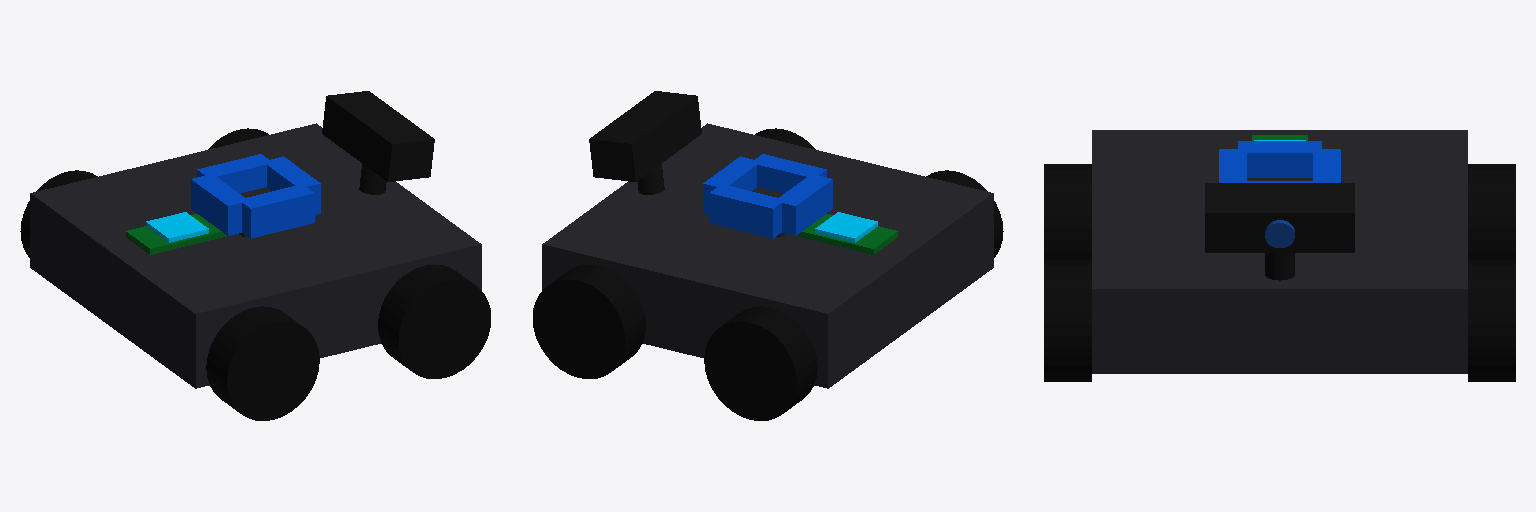
The robot description file, URDF, robot "autonomous_box_robot":
<?xml version="1.0"?>
<robot name="autonomous_box_robot">

  <!-- MATERIALS -->
  <material name="chassis_color">
    <color rgba="0.18 0.18 0.20 1.0"/>
  </material>
  <material name="wheel_rubber">
    <color rgba="0.08 0.08 0.08 1.0"/>
  </material>
  <material name="wheel_rim">
    <color rgba="0.9 0.4 0.0 1.0"/>
  </material>
  <material name="sensor_blue">
    <color rgba="0.05 0.35 0.85 1.0"/>
  </material>
  <material name="sensor_barrel">
    <color rgba="0.85 0.85 0.85 1.0"/>
  </material>
  <material name="webcam_black">
    <color rgba="0.1 0.1 0.1 1.0"/>
  </material>
  <material name="webcam_lens">
    <color rgba="0.1 0.3 0.6 1.0"/>
  </material>
  <material name="oled_screen">
    <color rgba="0.0 0.8 1.0 1.0"/>
  </material>
  <material name="pcb_green">
    <color rgba="0.05 0.45 0.15 1.0"/>
  </material>

  <!-- BASE FOOTPRINT (Ground plane projection) -->
  <link name="base_footprint"/>

  <joint name="base_footprint_joint" type="fixed">
    <parent link="base_footprint"/>
    <child link="base_link"/>
    <origin xyz="0 0 0.045" rpy="0 0 0"/>
  </joint>

  <!-- CHASSIS BASE LINK (20cm x 20cm x 5cm box) -->
  <link name="base_link">
    <visual>
      <origin xyz="0 0 0" rpy="0 0 0"/>
      <geometry>
        <box size="0.20 0.20 0.05"/>
      </geometry>
      <material name="chassis_color"/>
    </visual>
    <collision>
      <origin xyz="0 0 0" rpy="0 0 0"/>
      <geometry>
        <box size="0.20 0.20 0.05"/>
      </geometry>
    </collision>
    <inertial>
      <origin xyz="0 0 0" rpy="0 0 0"/>
      <mass value="1.20"/>
      <inertia ixx="0.00425" ixy="0.0" ixz="0.0"
               iyy="0.00425" iyz="0.0"
               izz="0.00800"/>
    </inertial>
  </link>

  <!-- WHEEL MACRO-LIKE DEFINITIONS (4WD Skid Steer) -->
  <!-- FRONT LEFT WHEEL -->
  <link name="wheel_front_left_link">
    <visual>
      <origin xyz="0 0 0" rpy="1.570796 0 0"/>
      <geometry>
        <cylinder radius="0.0325" length="0.025"/>
      </geometry>
      <material name="wheel_rubber"/>
    </visual>
    <collision>
      <origin xyz="0 0 0" rpy="1.570796 0 0"/>
      <geometry>
        <cylinder radius="0.0325" length="0.025"/>
      </geometry>
    </collision>
    <inertial>
      <origin xyz="0 0 0" rpy="1.570796 0 0"/>
      <mass value="0.10"/>
      <inertia ixx="0.0000316" ixy="0.0" ixz="0.0"
               iyy="0.0000528" iyz="0.0"
               izz="0.0000316"/>
    </inertial>
  </link>
  <joint name="wheel_front_left_joint" type="continuous">
    <parent link="base_link"/>
    <child link="wheel_front_left_link"/>
    <origin xyz="0.060 0.1125 -0.0125" rpy="0 0 0"/>
    <axis xyz="0 1 0"/>
  </joint>

  <!-- FRONT RIGHT WHEEL -->
  <link name="wheel_front_right_link">
    <visual>
      <origin xyz="0 0 0" rpy="1.570796 0 0"/>
      <geometry>
        <cylinder radius="0.0325" length="0.025"/>
      </geometry>
      <material name="wheel_rubber"/>
    </visual>
    <collision>
      <origin xyz="0 0 0" rpy="1.570796 0 0"/>
      <geometry>
        <cylinder radius="0.0325" length="0.025"/>
      </geometry>
    </collision>
    <inertial>
      <origin xyz="0 0 0" rpy="1.570796 0 0"/>
      <mass value="0.10"/>
      <inertia ixx="0.0000316" ixy="0.0" ixz="0.0"
               iyy="0.0000528" iyz="0.0"
               izz="0.0000316"/>
    </inertial>
  </link>
  <joint name="wheel_front_right_joint" type="continuous">
    <parent link="base_link"/>
    <child link="wheel_front_right_link"/>
    <origin xyz="0.060 -0.1125 -0.0125" rpy="0 0 0"/>
    <axis xyz="0 1 0"/>
  </joint>

  <!-- REAR LEFT WHEEL -->
  <link name="wheel_rear_left_link">
    <visual>
      <origin xyz="0 0 0" rpy="1.570796 0 0"/>
      <geometry>
        <cylinder radius="0.0325" length="0.025"/>
      </geometry>
      <material name="wheel_rubber"/>
    </visual>
    <collision>
      <origin xyz="0 0 0" rpy="1.570796 0 0"/>
      <geometry>
        <cylinder radius="0.0325" length="0.025"/>
      </geometry>
    </collision>
    <inertial>
      <origin xyz="0 0 0" rpy="1.570796 0 0"/>
      <mass value="0.10"/>
      <inertia ixx="0.0000316" ixy="0.0" ixz="0.0"
               iyy="0.0000528" iyz="0.0"
               izz="0.0000316"/>
    </inertial>
  </link>
  <joint name="wheel_rear_left_joint" type="continuous">
    <parent link="base_link"/>
    <child link="wheel_rear_left_link"/>
    <origin xyz="-0.060 0.1125 -0.0125" rpy="0 0 0"/>
    <axis xyz="0 1 0"/>
  </joint>

  <!-- REAR RIGHT WHEEL -->
  <link name="wheel_rear_right_link">
    <visual>
      <origin xyz="0 0 0" rpy="1.570796 0 0"/>
      <geometry>
        <cylinder radius="0.0325" length="0.025"/>
      </geometry>
      <material name="wheel_rubber"/>
    </visual>
    <collision>
      <origin xyz="0 0 0" rpy="1.570796 0 0"/>
      <geometry>
        <cylinder radius="0.0325" length="0.025"/>
      </geometry>
    </collision>
    <inertial>
      <origin xyz="0 0 0" rpy="1.570796 0 0"/>
      <mass value="0.10"/>
      <inertia ixx="0.0000316" ixy="0.0" ixz="0.0"
               iyy="0.0000528" iyz="0.0"
               izz="0.0000316"/>
    </inertial>
  </link>
  <joint name="wheel_rear_right_joint" type="continuous">
    <parent link="base_link"/>
    <child link="wheel_rear_right_link"/>
    <origin xyz="-0.060 -0.1125 -0.0125" rpy="0 0 0"/>
    <axis xyz="0 1 0"/>
  </joint>

  <!-- 4x HC-SR04 ULTRASONIC SENSOR HUB (Center of robot top surface) -->
  <link name="sonar_hub_link">
    <visual>
      <origin xyz="0 0 0.005" rpy="0 0 0"/>
      <geometry>
        <box size="0.04 0.04 0.01"/>
      </geometry>
      <material name="chassis_color"/>
    </visual>
  </link>
  <joint name="sonar_hub_joint" type="fixed">
    <parent link="base_link"/>
    <child link="sonar_hub_link"/>
    <origin xyz="0 0 0.025" rpy="0 0 0"/>
  </joint>

  <!-- 1. SONAR FRONT (0 deg, +X) -->
  <link name="sonar_front_link">
    <visual>
      <origin xyz="0 0 0" rpy="0 0 0"/>
      <geometry>
        <box size="0.015 0.045 0.020"/>
      </geometry>
      <material name="sensor_blue"/>
    </visual>
    <collision>
      <origin xyz="0 0 0" rpy="0 0 0"/>
      <geometry>
        <box size="0.015 0.045 0.020"/>
      </geometry>
    </collision>
  </link>
  <joint name="sonar_front_joint" type="fixed">
    <parent link="sonar_hub_link"/>
    <child link="sonar_front_link"/>
    <origin xyz="0.025 0 0.015" rpy="0 0 0"/>
  </joint>

  <!-- 2. SONAR LEFT (+90 deg, +Y) -->
  <link name="sonar_left_link">
    <visual>
      <origin xyz="0 0 0" rpy="0 0 0"/>
      <geometry>
        <box size="0.015 0.045 0.020"/>
      </geometry>
      <material name="sensor_blue"/>
    </visual>
    <collision>
      <origin xyz="0 0 0" rpy="0 0 0"/>
      <geometry>
        <box size="0.015 0.045 0.020"/>
      </geometry>
    </collision>
  </link>
  <joint name="sonar_left_joint" type="fixed">
    <parent link="sonar_hub_link"/>
    <child link="sonar_left_link"/>
    <origin xyz="0 0.025 0.015" rpy="0 0 1.570796"/>
  </joint>

  <!-- 3. SONAR BACK (180 deg, -X) -->
  <link name="sonar_back_link">
    <visual>
      <origin xyz="0 0 0" rpy="0 0 0"/>
      <geometry>
        <box size="0.015 0.045 0.020"/>
      </geometry>
      <material name="sensor_blue"/>
    </visual>
    <collision>
      <origin xyz="0 0 0" rpy="0 0 0"/>
      <geometry>
        <box size="0.015 0.045 0.020"/>
      </geometry>
    </collision>
  </link>
  <joint name="sonar_back_joint" type="fixed">
    <parent link="sonar_hub_link"/>
    <child link="sonar_back_link"/>
    <origin xyz="-0.025 0 0.015" rpy="0 0 3.141592"/>
  </joint>

  <!-- 4. SONAR RIGHT (-90 deg, -Y) -->
  <link name="sonar_right_link">
    <visual>
      <origin xyz="0 0 0" rpy="0 0 0"/>
      <geometry>
        <box size="0.015 0.045 0.020"/>
      </geometry>
      <material name="sensor_blue"/>
    </visual>
    <collision>
      <origin xyz="0 0 0" rpy="0 0 0"/>
      <geometry>
        <box size="0.015 0.045 0.020"/>
      </geometry>
    </collision>
  </link>
  <joint name="sonar_right_joint" type="fixed">
    <parent link="sonar_hub_link"/>
    <child link="sonar_right_link"/>
    <origin xyz="0 -0.025 0.015" rpy="0 0 -1.570796"/>
  </joint>

  <!-- 720P OPTIMAL EXTERNAL WEBCAM -->
  <link name="camera_link">
    <!-- Camera mount / stand -->
    <visual>
      <origin xyz="0 0 -0.015" rpy="0 0 0"/>
      <geometry>
        <cylinder radius="0.008" length="0.03"/>
      </geometry>
      <material name="webcam_black"/>
    </visual>
    <!-- Camera body (horizontal bar webcam style) -->
    <visual>
      <origin xyz="0 0 0.005" rpy="0 0 0"/>
      <geometry>
        <box size="0.030 0.080 0.025"/>
      </geometry>
      <material name="webcam_black"/>
    </visual>
    <!-- Camera lens element -->
    <visual>
      <origin xyz="0.016 0 0.005" rpy="0 1.570796 0"/>
      <geometry>
        <cylinder radius="0.008" length="0.004"/>
      </geometry>
      <material name="webcam_lens"/>
    </visual>
    <collision>
      <origin xyz="0 0 0.005" rpy="0 0 0"/>
      <geometry>
        <box size="0.030 0.080 0.025"/>
      </geometry>
    </collision>
  </link>
  <joint name="camera_joint" type="fixed">
    <parent link="base_link"/>
    <child link="camera_link"/>
    <!-- Positioned at front edge, elevated, slightly tilted down (-0.12 rad ~ 7 deg) -->
    <origin xyz="0.085 0.0 0.055" rpy="0 0.12 0"/>
  </joint>

  <!-- CAMERA OPTICAL LINK (REP-103: Z forward, X right, Y down) -->
  <link name="camera_optical_link"/>
  <joint name="camera_optical_joint" type="fixed">
    <parent link="camera_link"/>
    <child link="camera_optical_link"/>
    <origin xyz="0.016 0 0.005" rpy="-1.570796 0 -1.570796"/>
  </joint>

  <!-- NODEMCU WITH OLED DISPLAY -->
  <link name="nodemcu_link">
    <!-- NodeMCU PCB Board -->
    <visual>
      <origin xyz="0 0 0.002" rpy="0 0 0"/>
      <geometry>
        <box size="0.055 0.030 0.004"/>
      </geometry>
      <material name="pcb_green"/>
    </visual>
    <!-- OLED Display Module (0.96 inch SSD1306) -->
    <visual>
      <origin xyz="0 0 0.006" rpy="0 0 0"/>
      <geometry>
        <box size="0.028 0.028 0.003"/>
      </geometry>
      <material name="oled_screen"/>
    </visual>
  </link>
  <joint name="nodemcu_joint" type="fixed">
    <parent link="base_link"/>
    <child link="nodemcu_link"/>
    <origin xyz="-0.055 0.0 0.026" rpy="0 0 0"/>
  </joint>

</robot>

--- Facts derived from the render (not from the file) ---
Views: 3 orthographic renders of the robot side by side, from view 1: azimuth 30°, elevation 25°; view 2: azimuth 150°, elevation 25°; view 3: azimuth 270°, elevation 25°.
Model autonomous_box_robot with 14 links and 13 joints (4 continuous, 9 fixed), rooted at base_footprint, posed all joints at 0.
Visible links, largest first — view 1: base_link, wheel_rear_right_link, wheel_front_right_link, camera_link, sonar_right_link, nodemcu_link, sonar_back_link, sonar_left_link, sonar_front_link, wheel_rear_left_link, wheel_front_left_link; view 2: base_link, wheel_rear_left_link, wheel_front_left_link, camera_link, sonar_left_link, nodemcu_link, sonar_back_link, sonar_right_link, sonar_front_link, wheel_rear_right_link, wheel_front_right_link; view 3: base_link, camera_link, wheel_front_left_link, wheel_front_right_link, wheel_rear_left_link, wheel_rear_right_link, sonar_back_link, sonar_left_link, sonar_right_link.
Boxes of the visible links, x1,y1,x2,y2 form: base_link: (30, 123, 481, 388); wheel_rear_right_link: (206, 306, 319, 420); wheel_front_right_link: (378, 264, 490, 378); camera_link: (322, 91, 434, 194); sonar_right_link: (239, 184, 314, 238); nodemcu_link: (126, 212, 226, 254); sonar_back_link: (191, 174, 246, 235); sonar_left_link: (197, 154, 272, 193); sonar_front_link: (267, 156, 320, 214); wheel_rear_left_link: (20, 170, 97, 257); wheel_front_left_link: (208, 128, 268, 149); base_link: (542, 123, 993, 388); wheel_rear_left_link: (704, 306, 817, 420); wheel_front_left_link: (533, 264, 645, 378); camera_link: (589, 91, 701, 194); sonar_left_link: (709, 184, 784, 238); nodemcu_link: (797, 212, 897, 254); sonar_back_link: (778, 174, 832, 235); sonar_right_link: (751, 154, 826, 193); sonar_front_link: (703, 156, 756, 214); wheel_rear_right_link: (926, 170, 1003, 257); wheel_front_right_link: (755, 128, 815, 149); base_link: (1092, 130, 1467, 373); camera_link: (1205, 183, 1354, 280); wheel_front_left_link: (1468, 260, 1515, 381); wheel_front_right_link: (1044, 260, 1091, 381); wheel_rear_left_link: (1468, 164, 1515, 259); wheel_rear_right_link: (1044, 164, 1091, 259); sonar_back_link: (1238, 141, 1321, 177); sonar_left_link: (1313, 149, 1340, 182); sonar_right_link: (1219, 149, 1246, 182).
Size in the robot's own frame: 0.2044 by 0.25 by 0.1192 metres.
Geometry: primitives only (box / cylinder / sphere), no mesh files.
